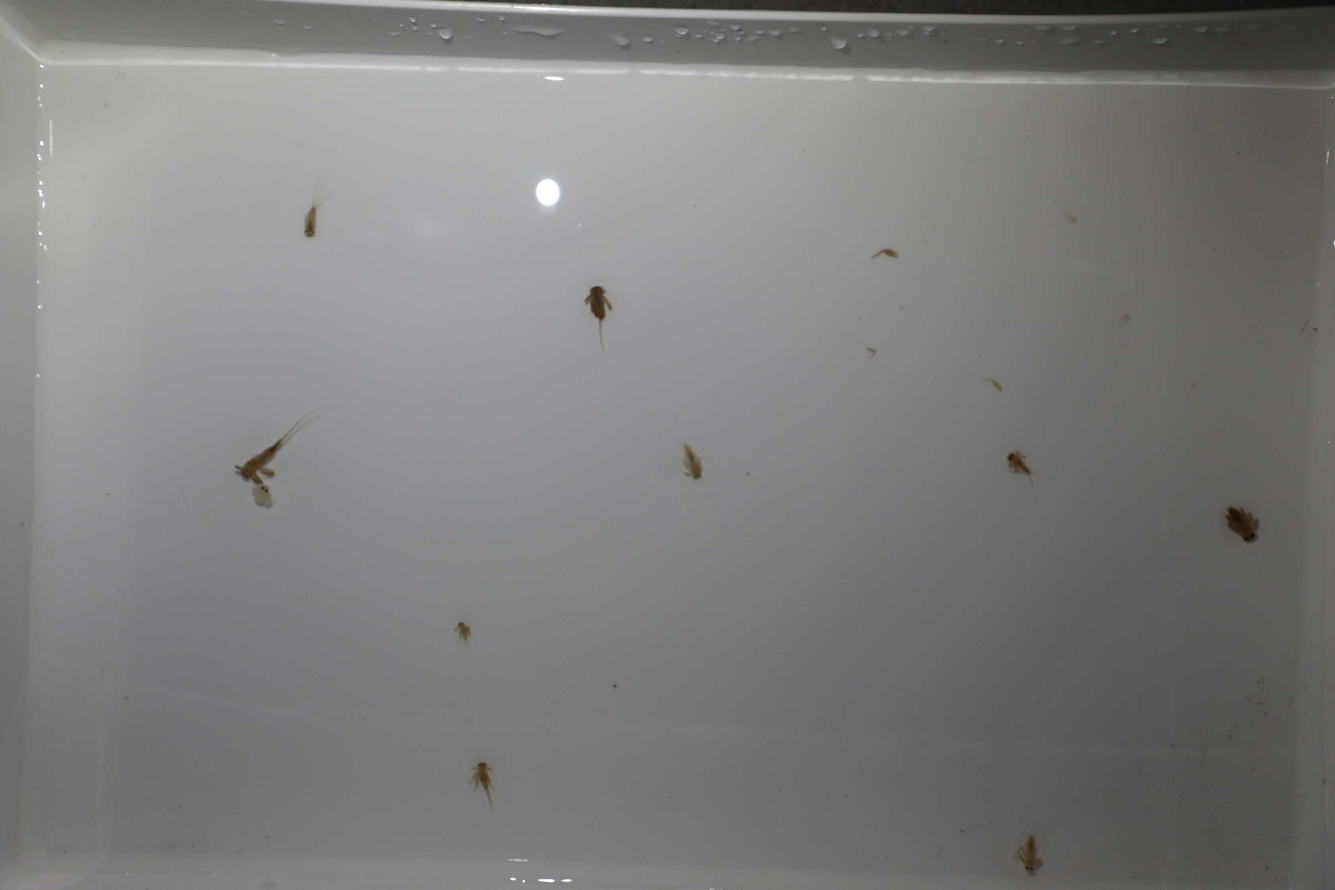Mayfly: (230, 408, 322, 487), (571, 281, 623, 365), (296, 170, 330, 241), (1219, 504, 1268, 553), (1007, 826, 1049, 883), (469, 755, 507, 816), (233, 477, 284, 517), (677, 429, 708, 489), (1001, 443, 1040, 487), (447, 613, 479, 651)
